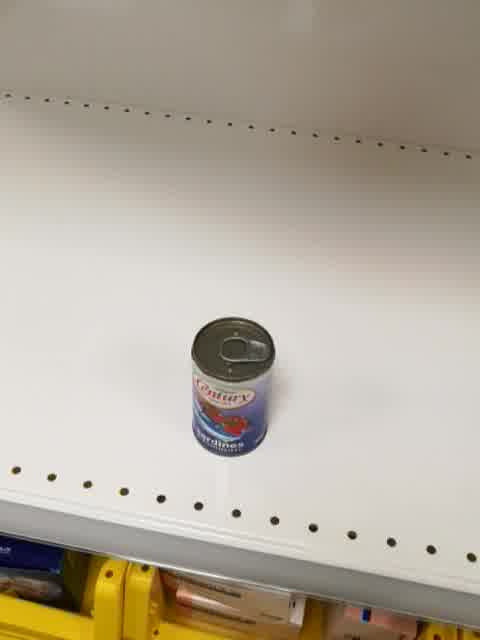sardine: (189, 316, 276, 459)
